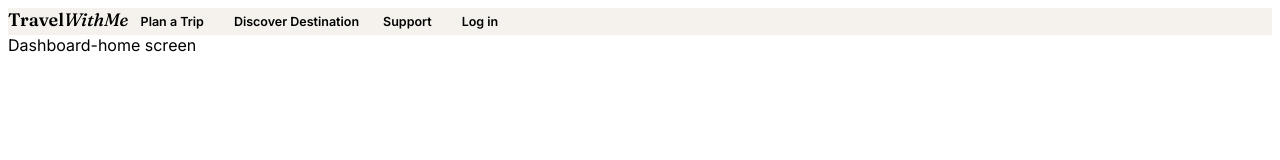
Test case: Header › "Plan a Trip" routes to journey-entry with the known_destination intent
This screenshot has width=1280, height=160.
Click the text "Plan a Trip". click: (172, 22)
box: [141,14,204,29]
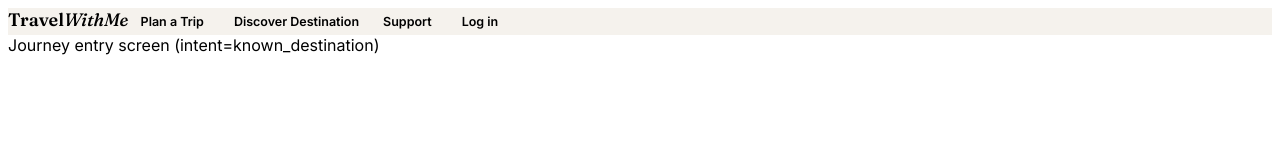
Expected: the text "Journey entry screen (intent=known_destination)" is shown, [8,35,380,55]
